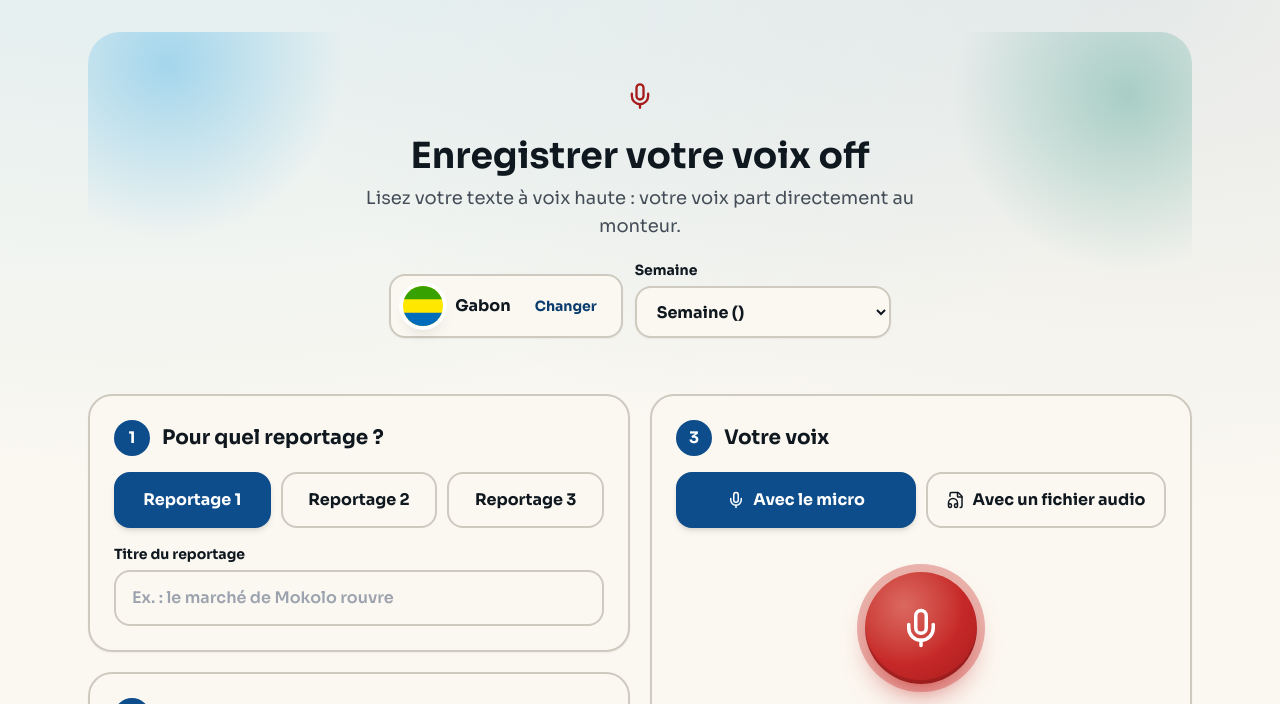
Test case: StudioVoixJournaliste › enregistrer, terminer, réécouter, envoyer : la voix arrive chez le monteur
This screenshot has width=1280, height=704.
Click the button named "Commencer l’enregistrement": x=921, y=628 [865,572,977,684]
(page scrolled)
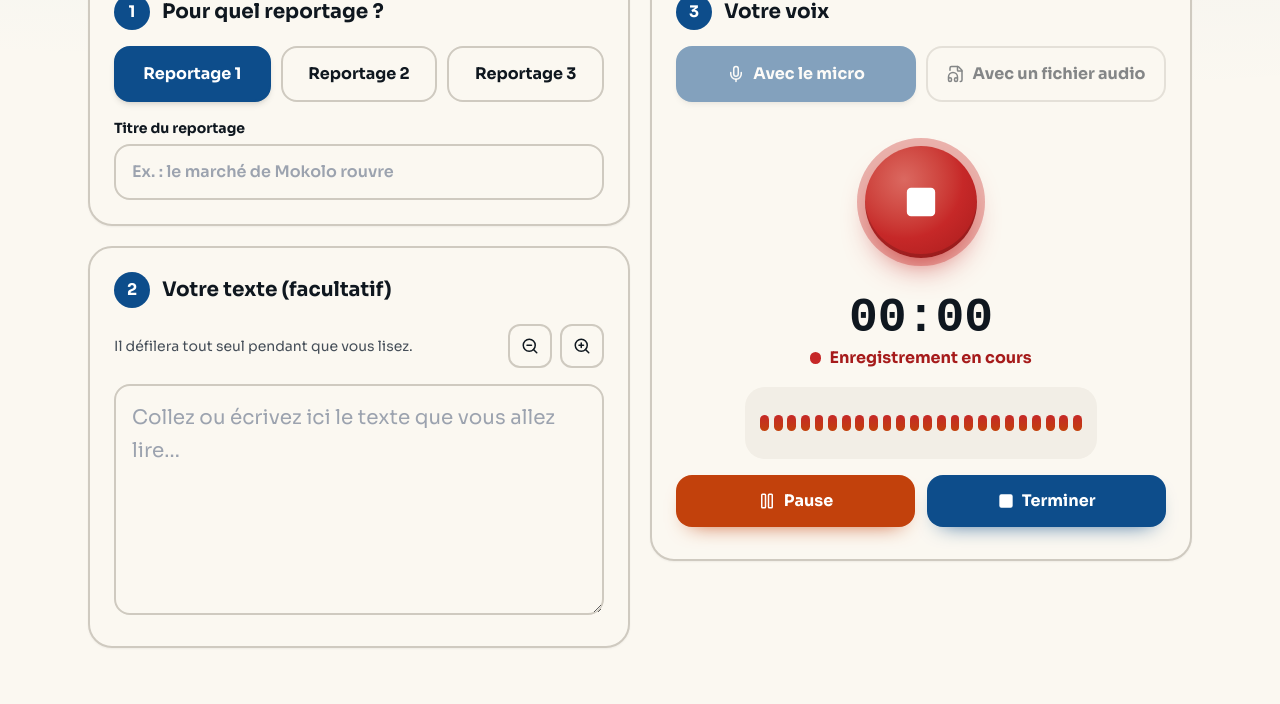
Result: the text "Enregistrement en cours" is shown at [810,346,1032,370]
Click the button "Pause": x=796, y=501 [676,475,915,527]
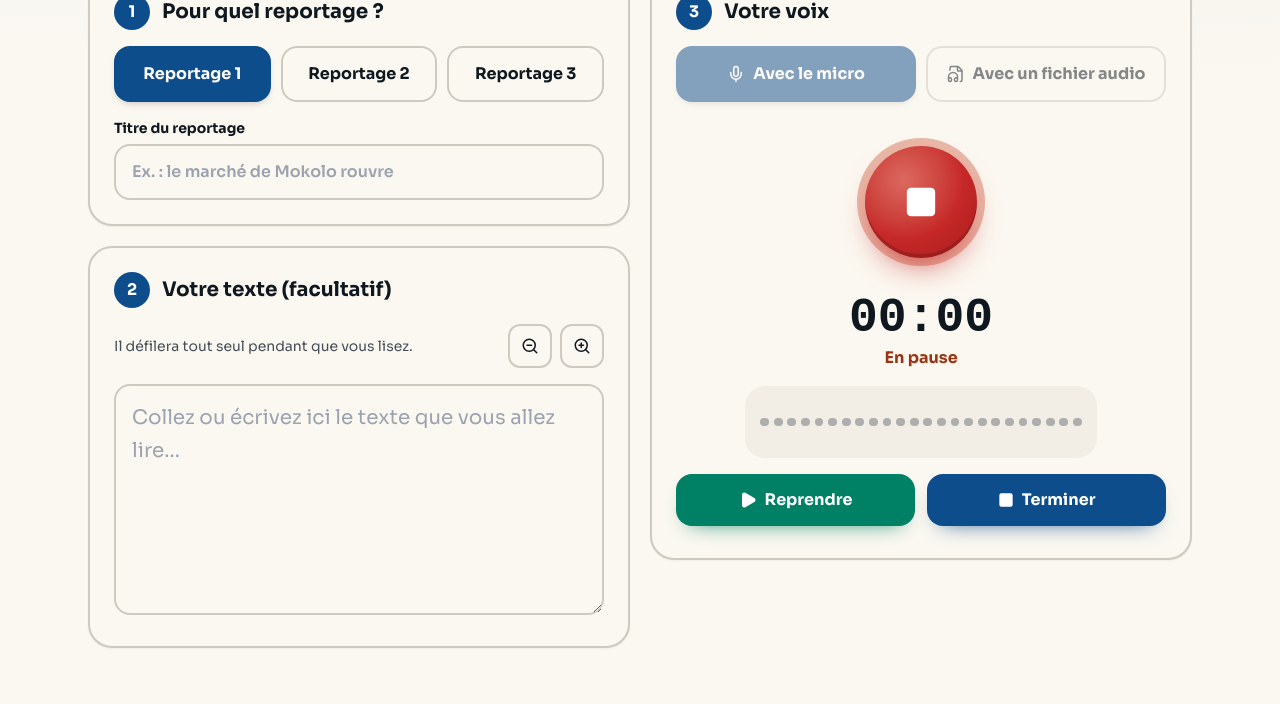
Result: the text "En pause" is shown at [884,346,958,370]
Click the button "Reprendre": x=796, y=500 [676,474,915,526]
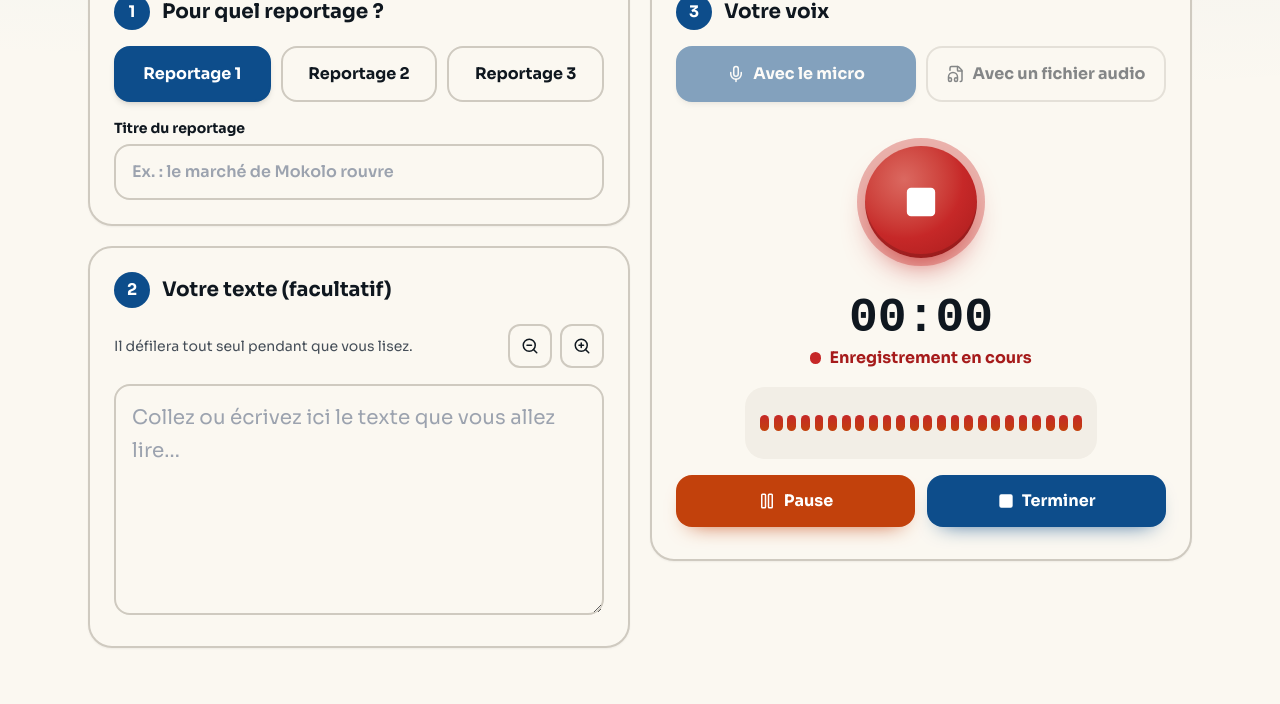
Click the button named "Terminer": x=921, y=202 [865,146,977,258]
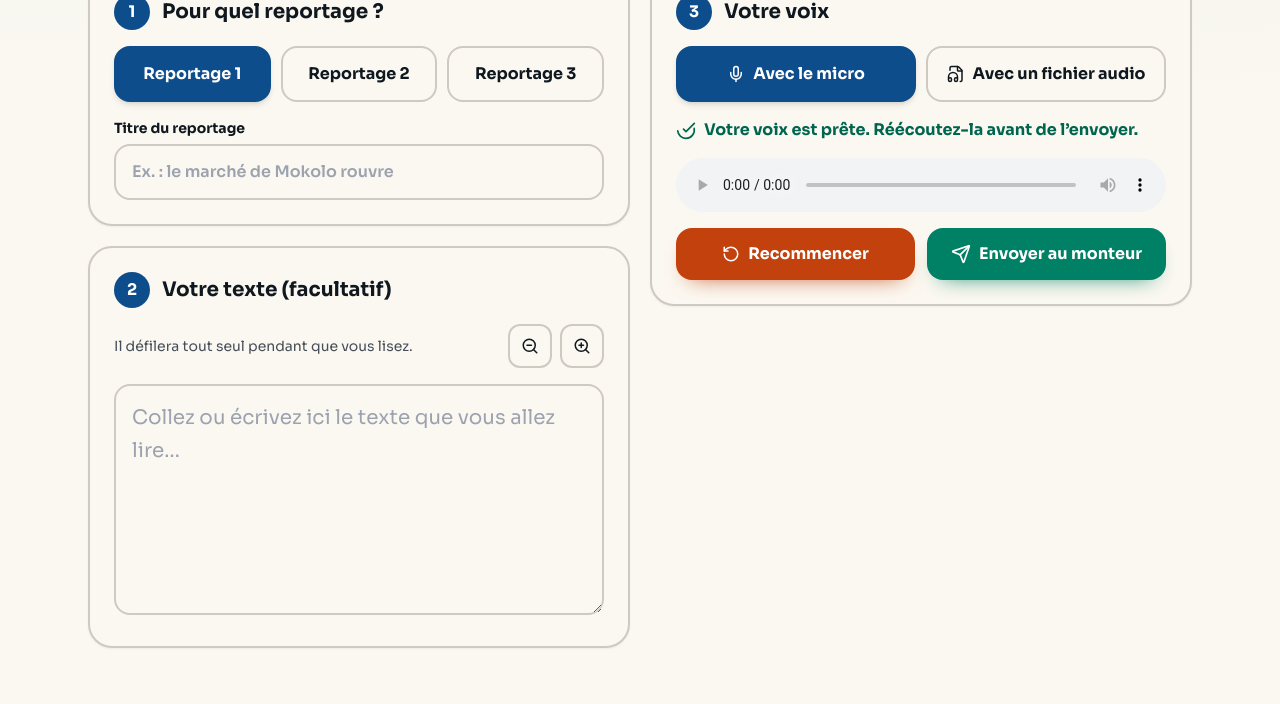
Result: the text "Votre voix est prête. Réécoutez-la avant de l’envoyer." is shown at [676,118,1166,142]
Click the button "Envoyer au monteur": x=1046, y=254 [927,228,1166,280]
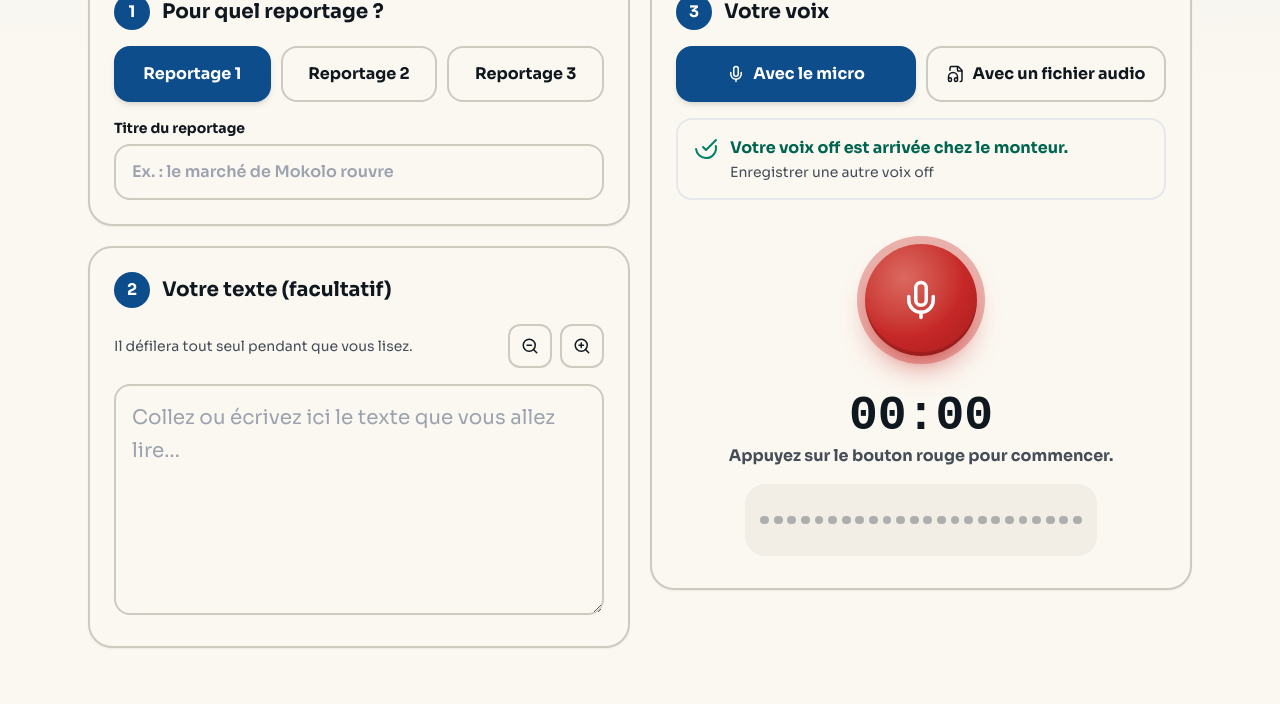
Expected: the button "Reportage 1" is shown, [114,46,271,102]
Result: the message shows "Votre voix off est arrivée chez le monteur." at [730,137,1068,158]
